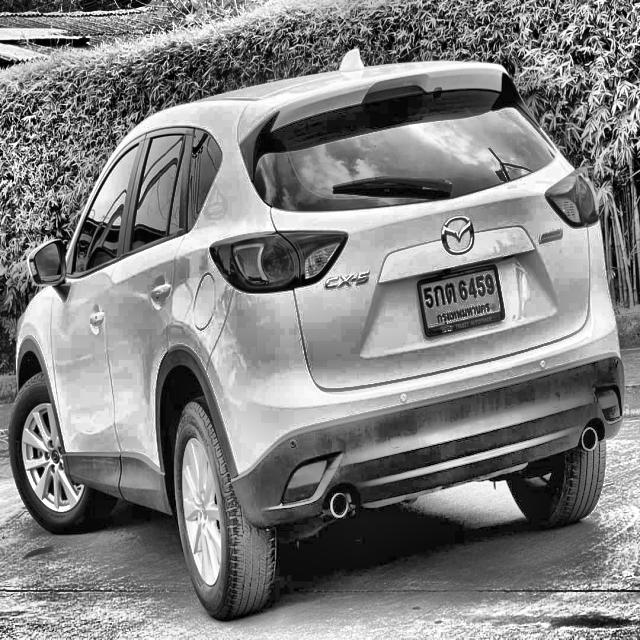license-plate: (412, 260, 509, 339)
